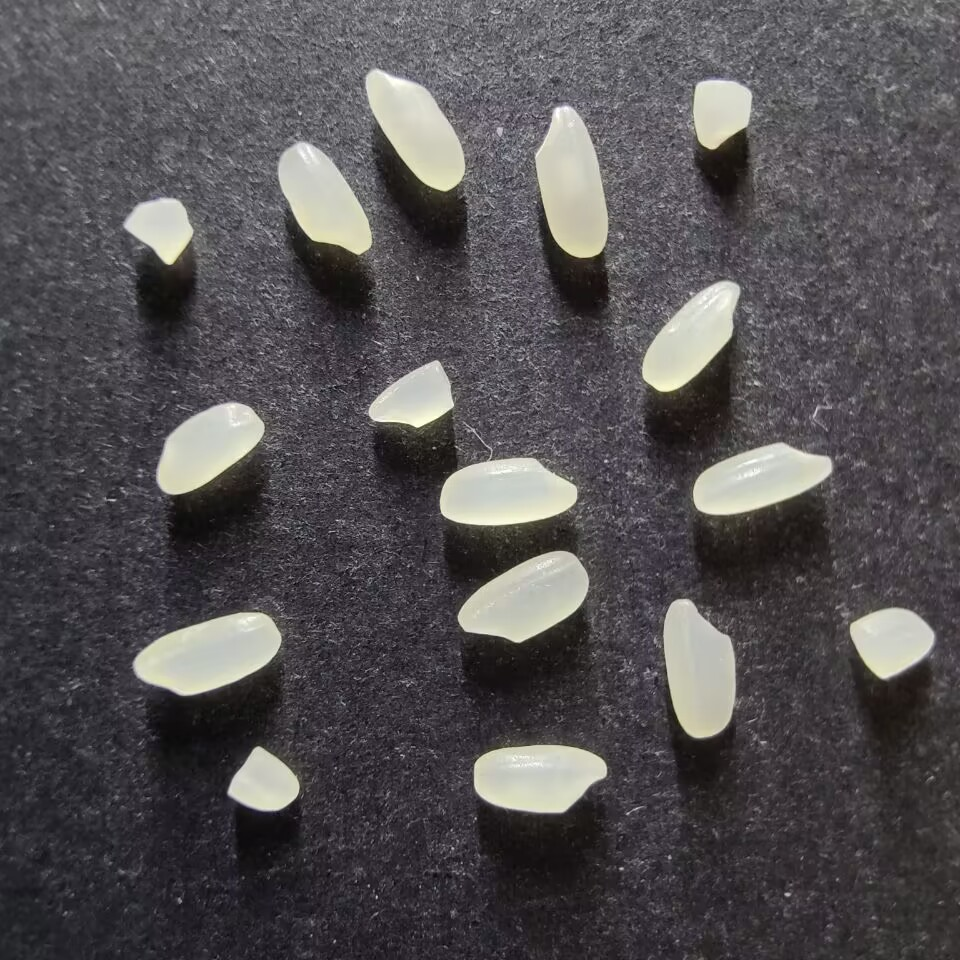broken: (847, 607, 936, 681), (366, 359, 456, 428), (224, 744, 300, 813), (120, 196, 194, 266), (691, 78, 753, 150)
rice: (363, 66, 467, 192), (131, 611, 282, 697), (456, 550, 589, 643), (532, 104, 608, 259), (639, 277, 740, 393), (275, 140, 372, 257), (691, 440, 833, 516), (661, 597, 737, 739), (154, 401, 264, 496), (471, 743, 608, 815), (438, 456, 578, 526)
